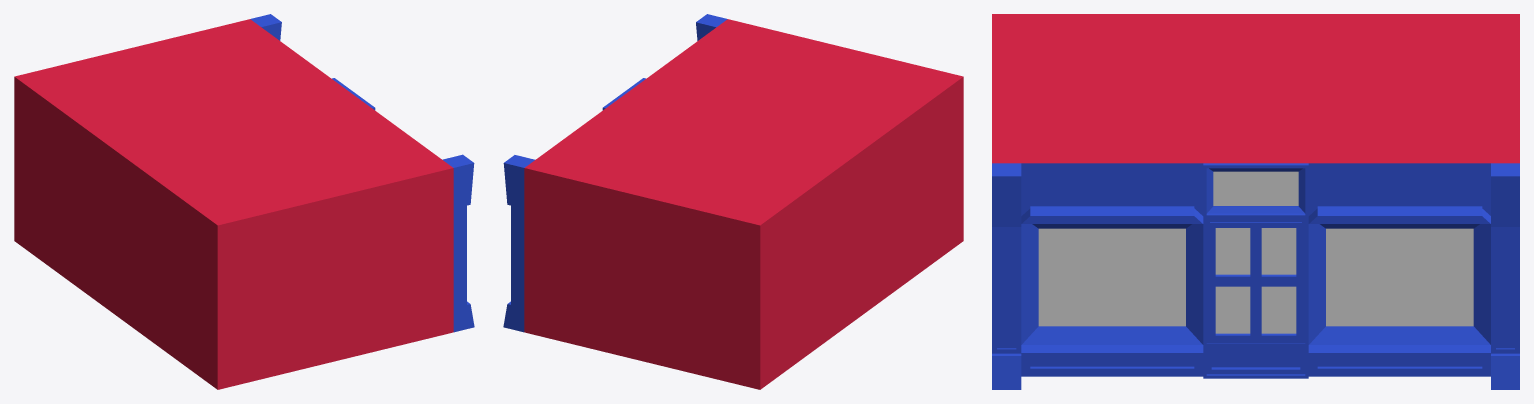
File: Fachada1.fbx
3 renders of one model, left to right at view 1: azimuth 30°, elevation 25°; view 2: azimuth 150°, elevation 25°; view 3: azimuth 270°, elevation 25°, orthographic. The views are drawn at different scales.
Parts seen in each view (by area): view 1: Cube.047; view 2: Cube.047; view 3: Cube.047.
Part boxes in pixels (x1=…): Cube.047: x1=14, y1=14, x2=474, y2=389; Cube.047: x1=503, y1=14, x2=963, y2=389; Cube.047: x1=992, y1=14, x2=1519, y2=389.
Size of the model in its own units: 654 by 400 by 897.
